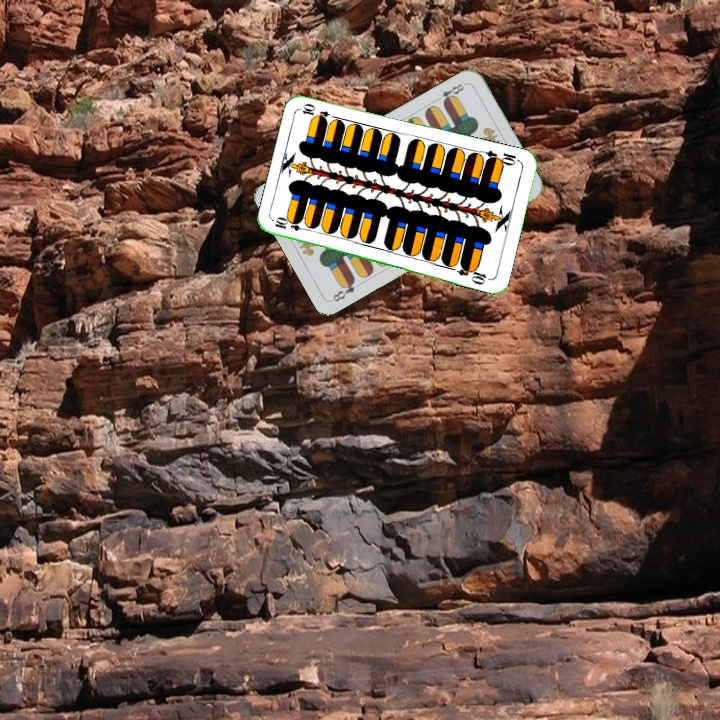E10: (482, 146, 522, 168), (271, 215, 311, 233)
E8: (431, 80, 469, 107), (328, 275, 358, 304)
